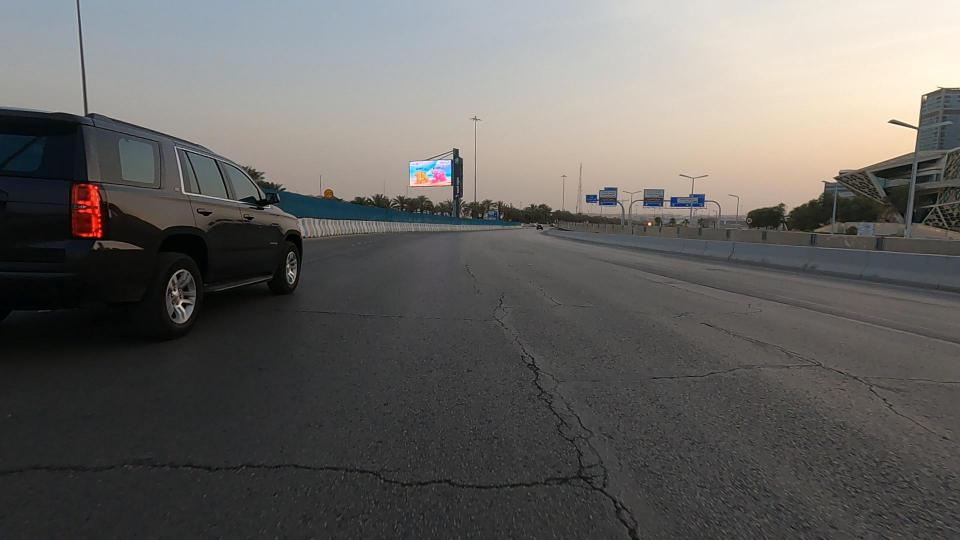CONSTRUCTION_ROAD: (260, 161, 392, 267), (335, 179, 442, 254), (406, 193, 512, 250)
